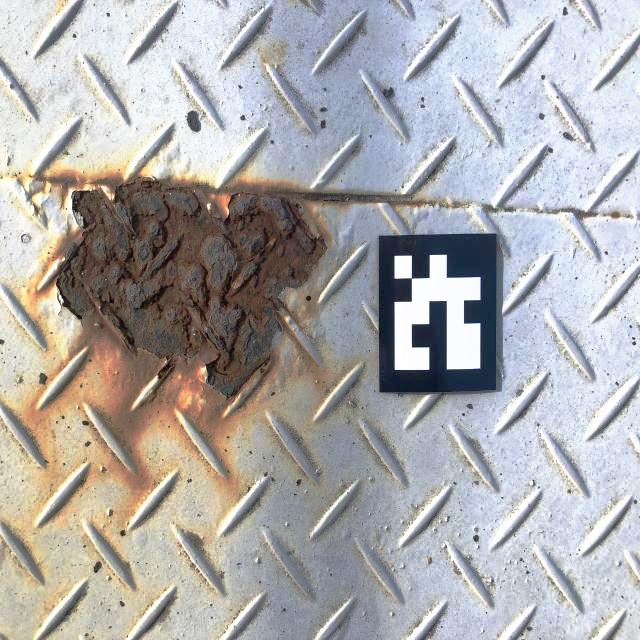Corrosion: (34, 173, 388, 491)
